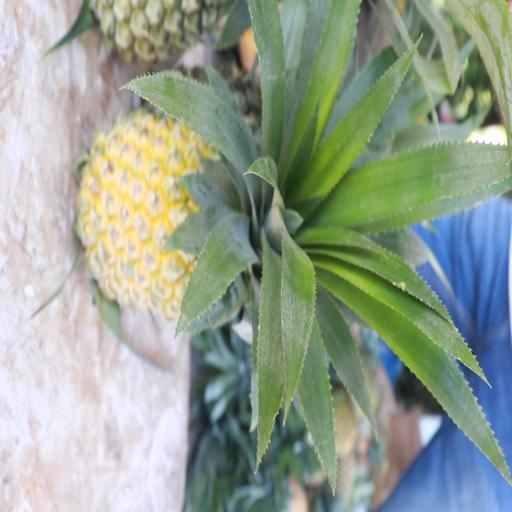Pineapple - v8 v1: (80, 114, 323, 322)
